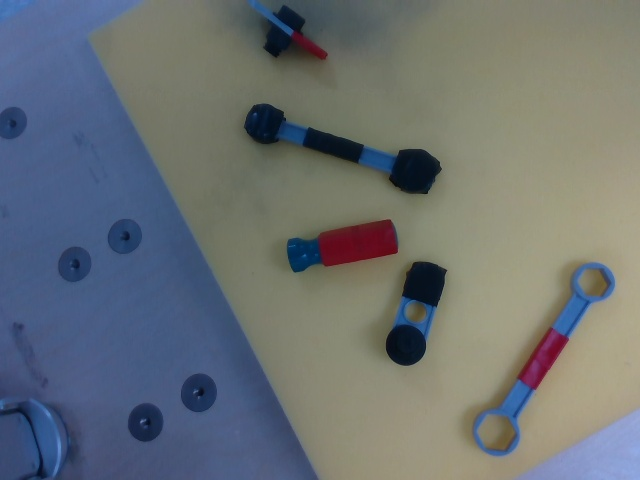part_1_good: (241, 0, 332, 67)
